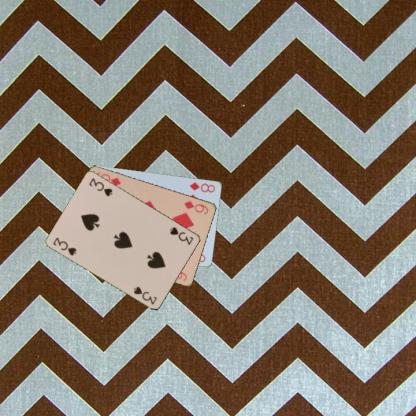3s: (51, 235, 78, 258), (168, 224, 194, 246)
6d: (182, 198, 210, 216)
8d: (187, 179, 216, 194)
